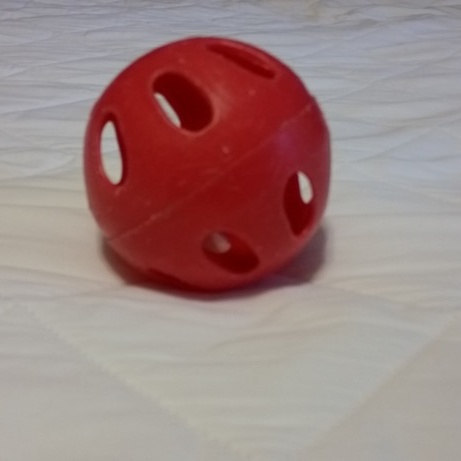redball: (80, 32, 338, 297)
